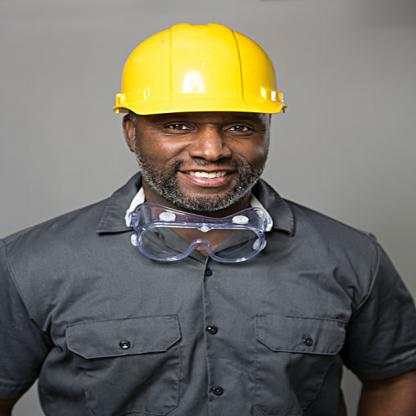helmet: (107, 24, 292, 115)
person: (1, 20, 415, 414)
